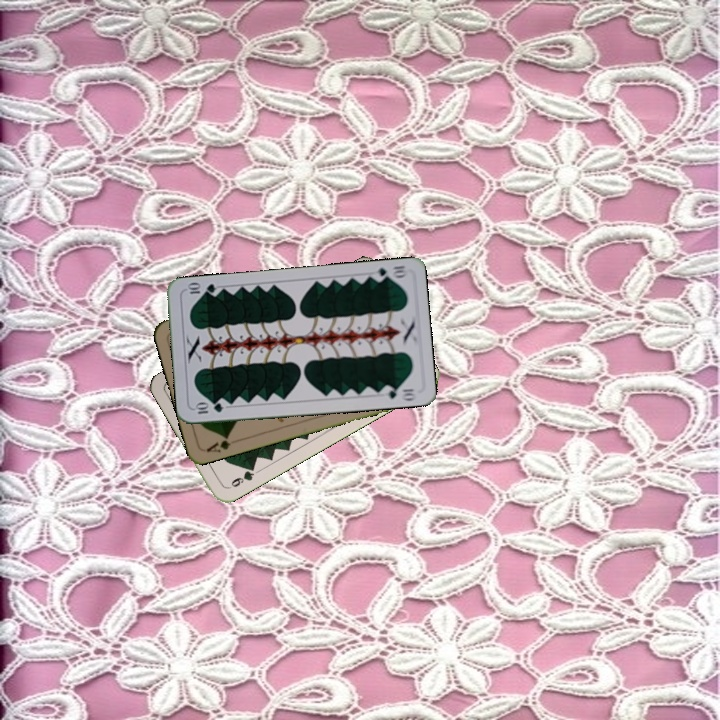G10: (368, 261, 409, 284), (191, 399, 226, 416)
G9: (223, 462, 257, 491)
GA: (202, 431, 233, 455)
